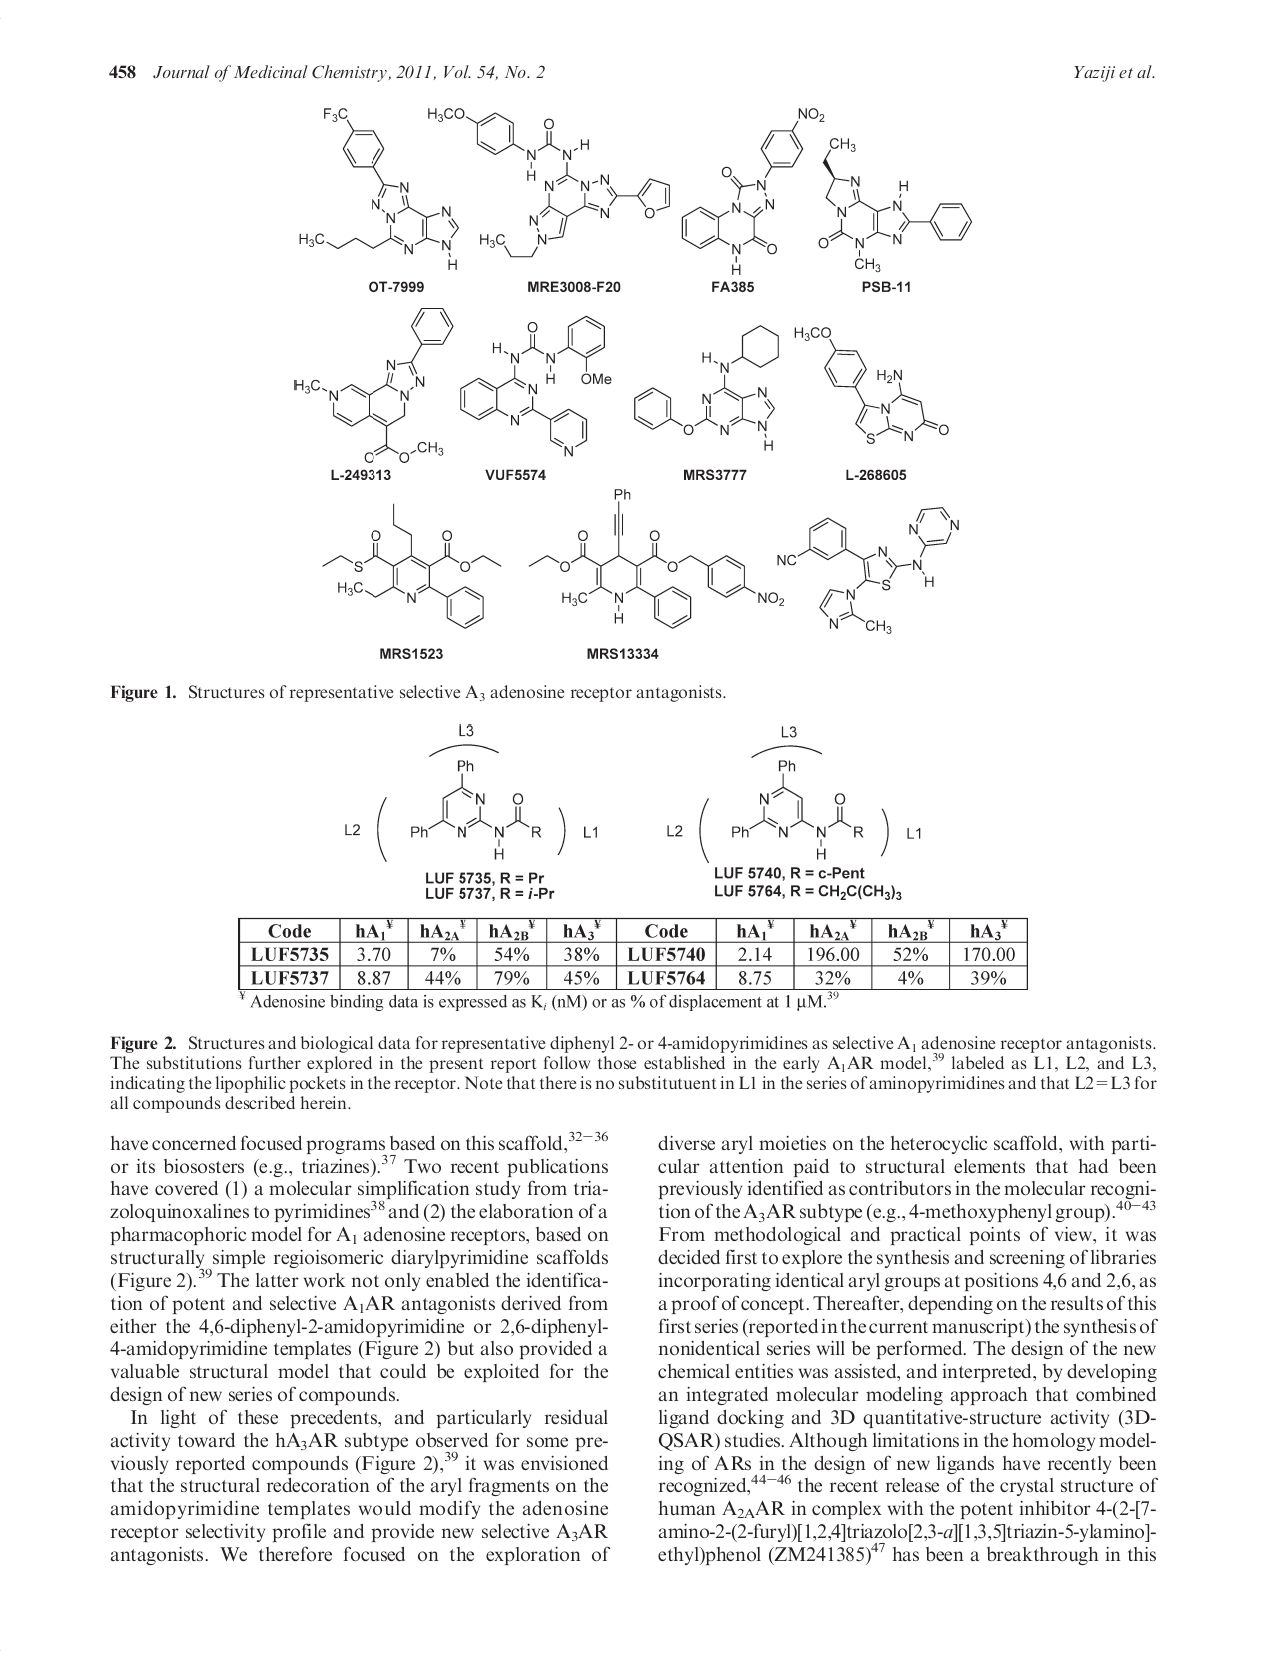exist_molecular: (426, 100, 674, 261), (527, 484, 785, 637), (295, 102, 464, 273), (289, 305, 456, 463), (680, 101, 826, 277), (775, 505, 961, 637), (456, 313, 613, 465), (320, 501, 503, 630), (817, 134, 977, 273), (791, 319, 952, 449), (630, 323, 782, 456), (730, 757, 866, 864), (408, 758, 547, 860)
